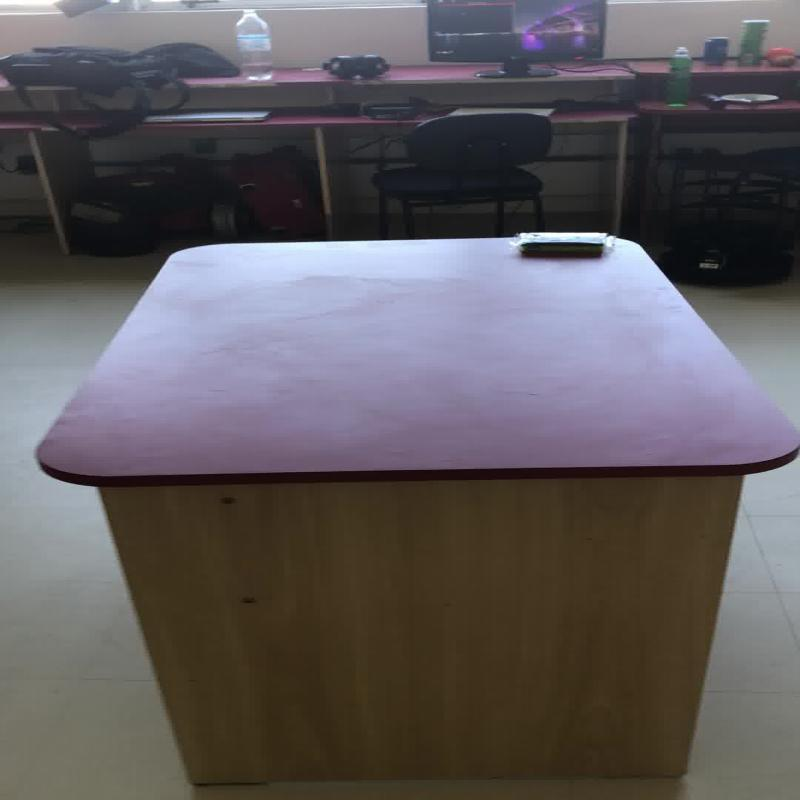sponge: (509, 230, 614, 254)
